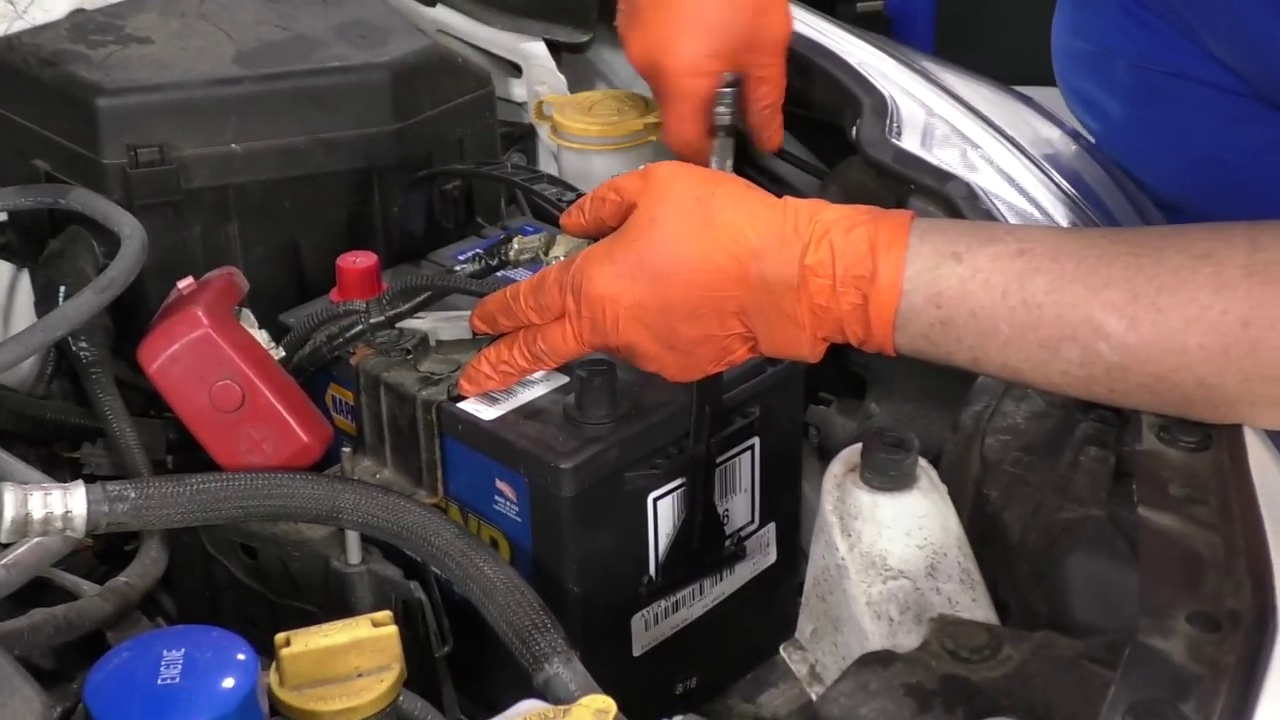battery: (288, 199, 824, 464)
